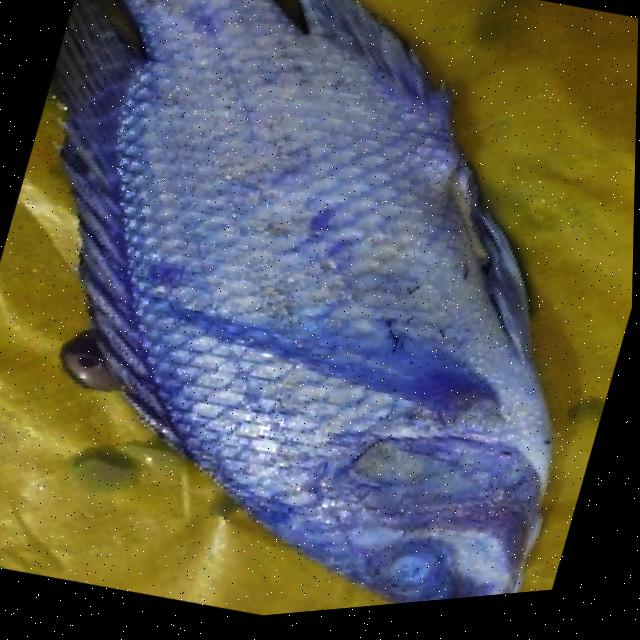Non-Fresh: (42, 47, 638, 636)
